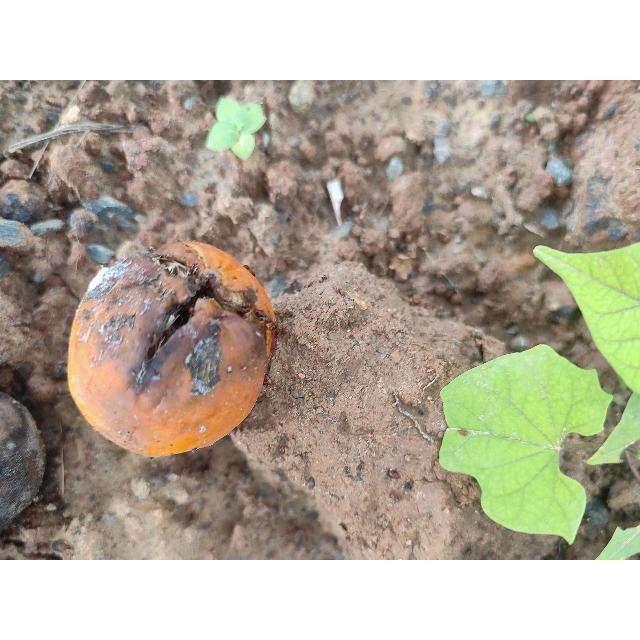damaged: (67, 242, 279, 457)
